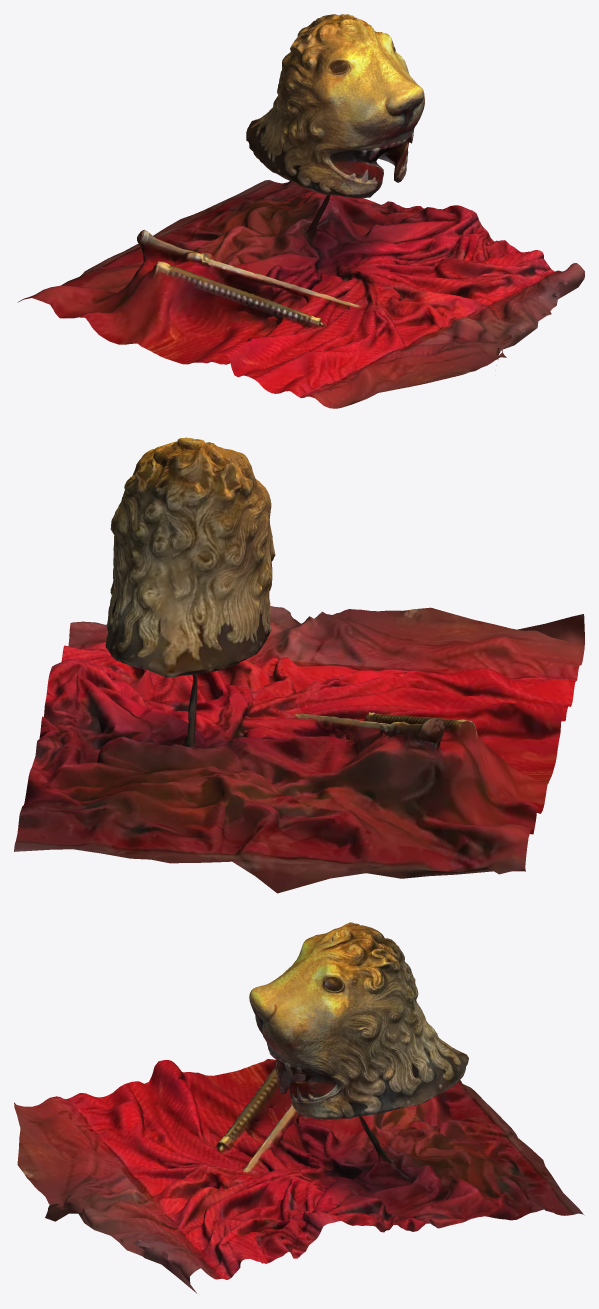
The model's file is helmet-sallet-scan.glb.
The picture shows the model from 3 angles, top to bottom: view 1: azimuth 30°, elevation 25°; view 2: azimuth 150°, elevation 25°; view 3: azimuth 270°, elevation 25°; orthographic projection. The views are drawn at different scales.
Visible parts, largest first — view 1: Object_4; view 2: Object_4; view 3: Object_4.
Boxes of the visible parts, x1,y1,x2,y2 form: Object_4: (17, 14, 584, 408); Object_4: (14, 437, 584, 893); Object_4: (14, 922, 584, 1293).
Bounding box in the file's own units: 1.4 × 0.7612 × 1.39.
1 material, 1 textured.
